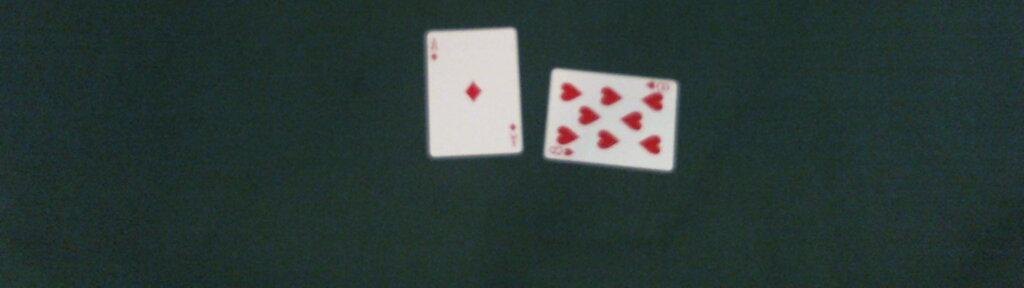ace: (424, 26, 522, 157)
eight: (542, 67, 679, 174)
